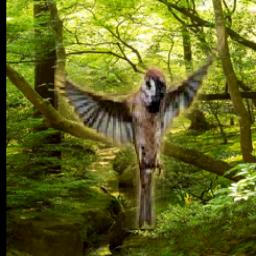Sparrow: (53, 27, 224, 230)
